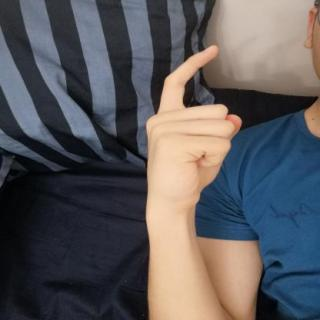RAA: (133, 38, 248, 204)
